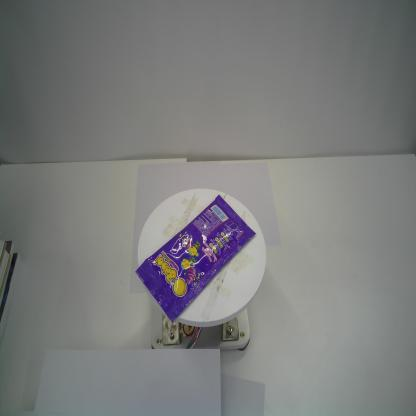Candy: (134, 194, 256, 324)
